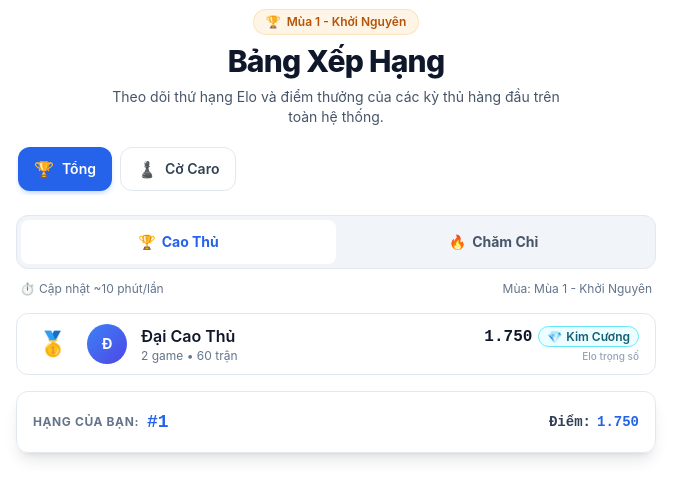
Test: LeaderboardPage Component Tests (LeaderboardPage.tsx - P4.4c & P4.7c) › 3. [P4.7c Chuyển Bảng] Bấm chuyển sang Chăm Chỉ -> Tải dữ liệu getGrinders
What coordinates should you click on to do the following:
click the button with test id "global-board-tab-grinders"
I would click on:
 (494, 242)
Its box is x1=336 y1=220 x2=651 y2=264.
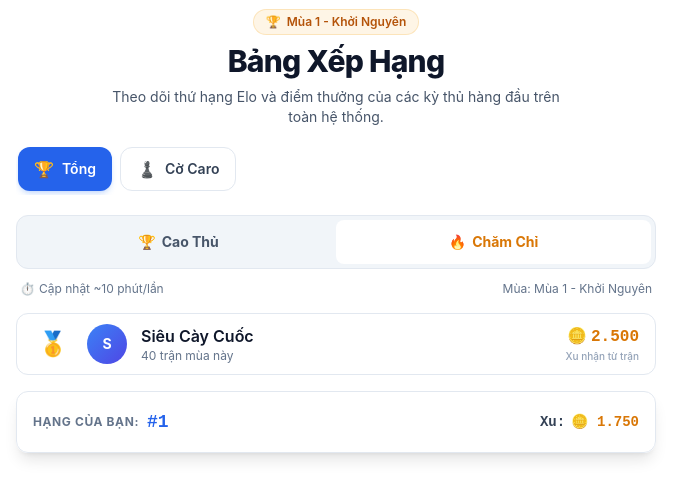
Check: the text "Siêu Cày Cuốc" is shown, box x1=141 y1=324 x2=254 y2=348
